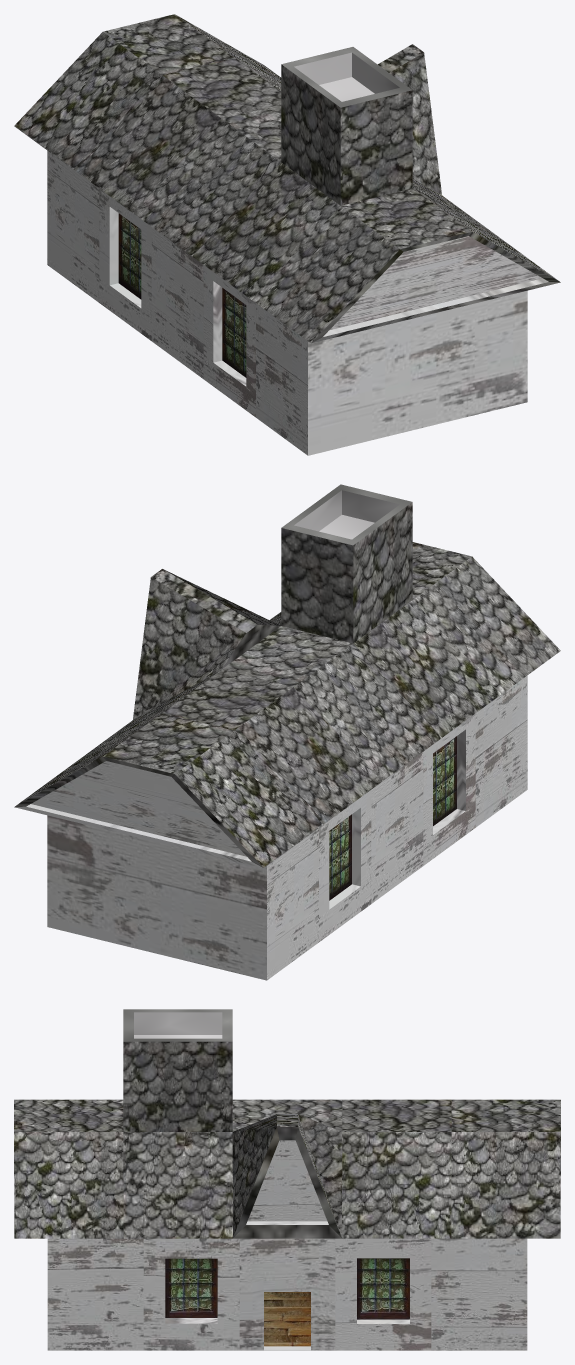
The model's file is Houses 2.fbx.
The picture shows the model from 3 angles, top to bottom: view 1: azimuth 30°, elevation 25°; view 2: azimuth 150°, elevation 25°; view 3: azimuth 270°, elevation 25°; orthographic projection. The views are drawn at different scales.
Parts seen in each view (by area): view 1: House 2; view 2: House 2; view 3: House 2.
Part boxes in pixels (x1,y1,x2,y2): House 2: (14,14,560,455); House 2: (14,484,560,980); House 2: (14,1009,560,1350).
Size of the model in its own units: 414 by 464 by 833.
